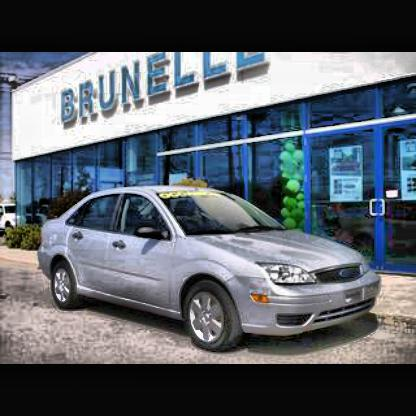Ford Focus Sedan 2007: (40, 189, 383, 355)
